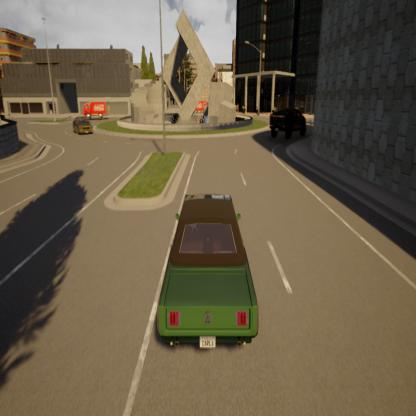Cars: (151, 168, 263, 378), (262, 93, 320, 144), (70, 110, 104, 160)
